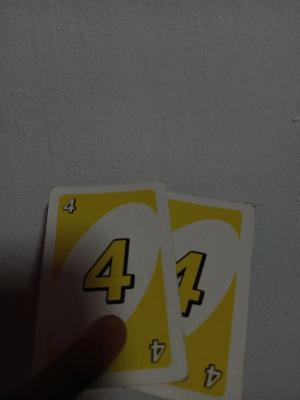num_4: (131, 300, 173, 372), (54, 191, 90, 253)
yellow: (179, 199, 223, 388)
